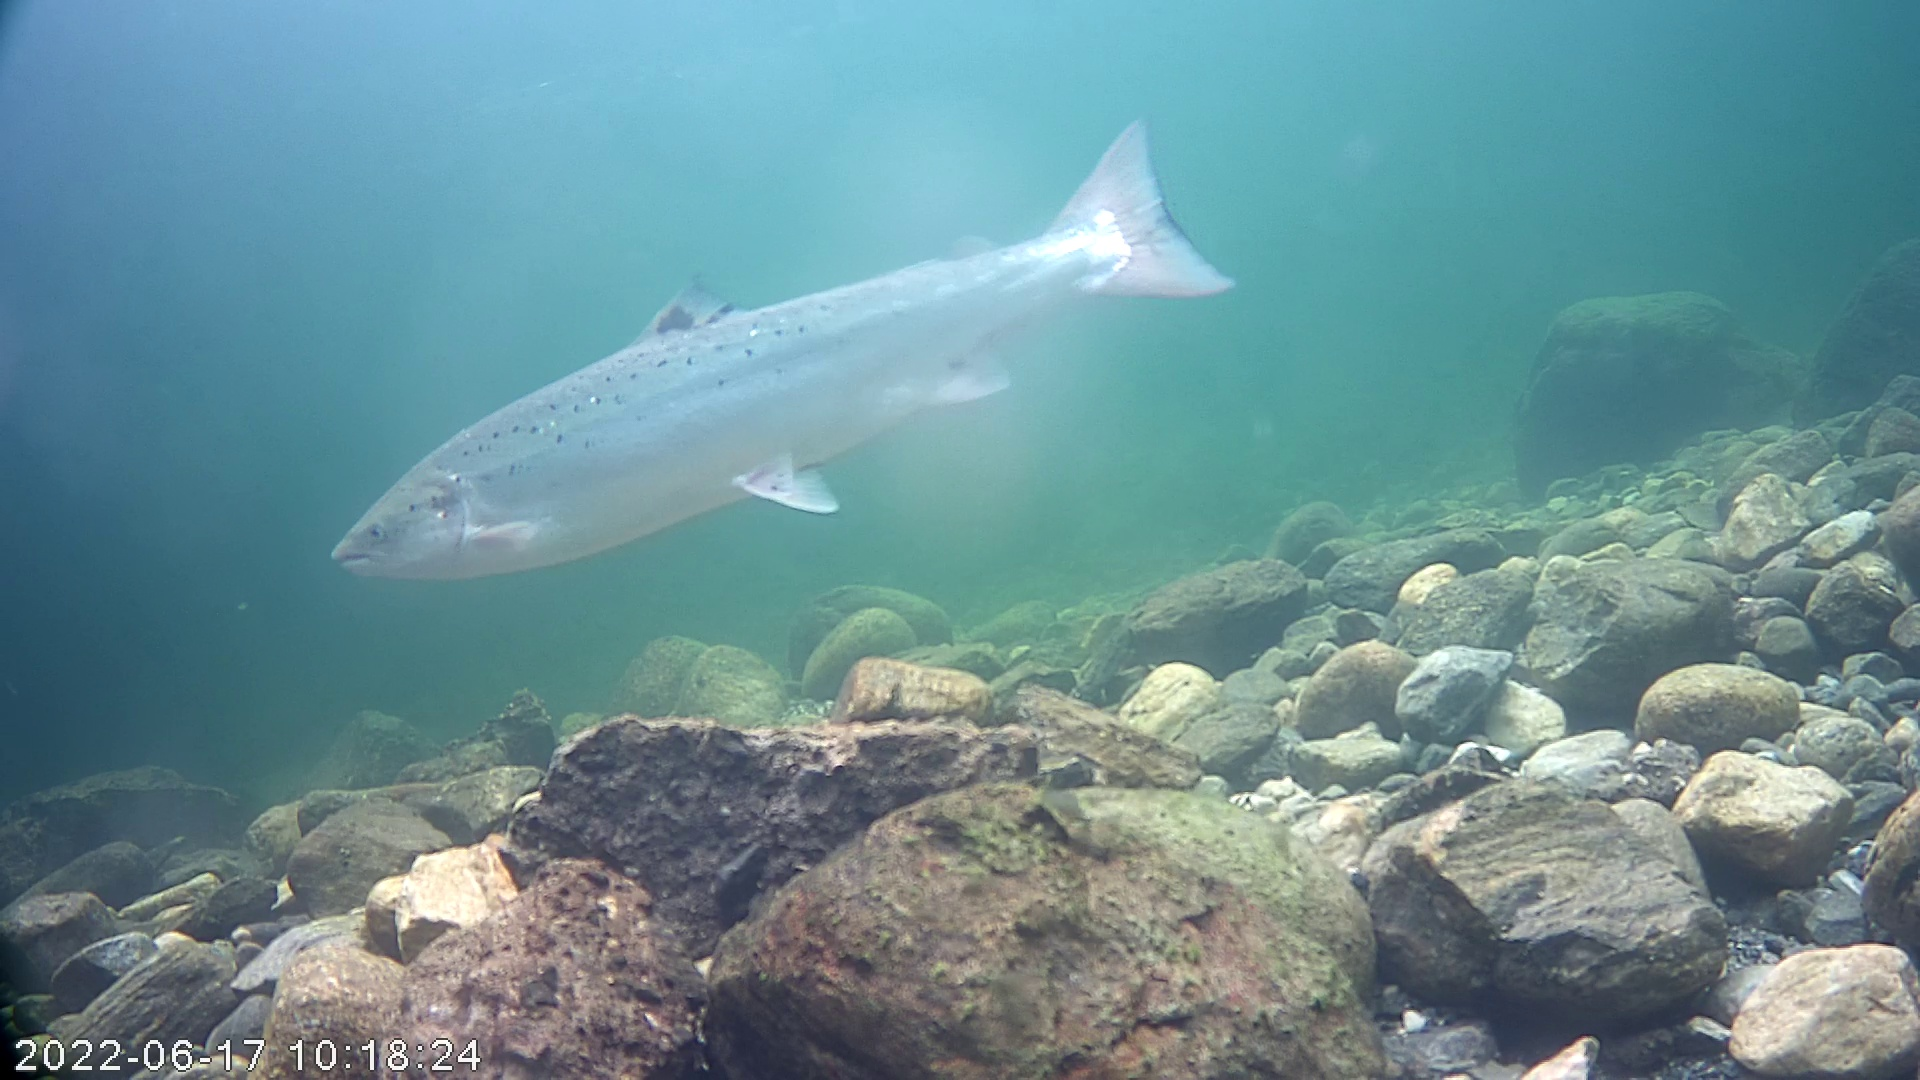salmon: (326, 113, 1240, 588)
